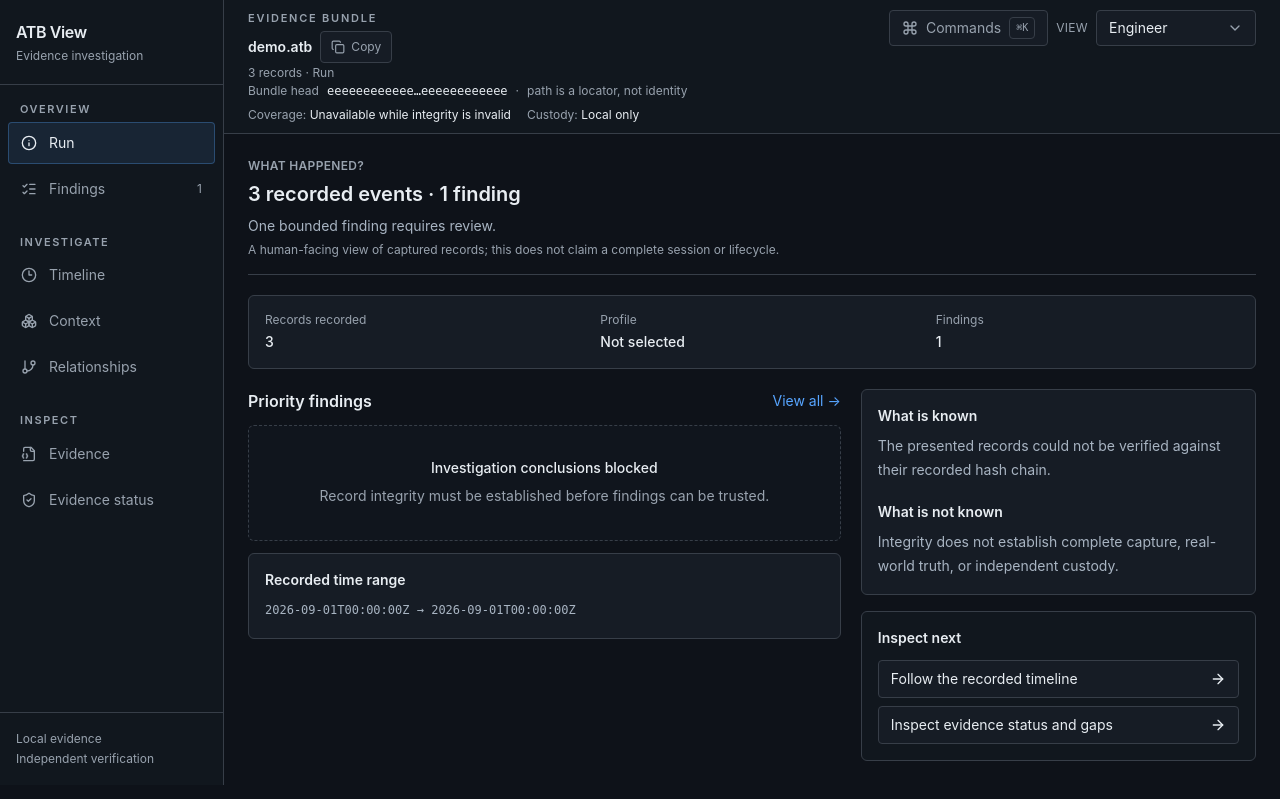
Test: ATB View investigation model › keeps integrity failure distinct from coverage and corroboration
The image size is (1280, 799).
Expected: the text "Unavailable while integrity is invalid" is shown, [310,106,511,122]
Click the button "Evidence status" at (112, 500), box [8,478,215,520]
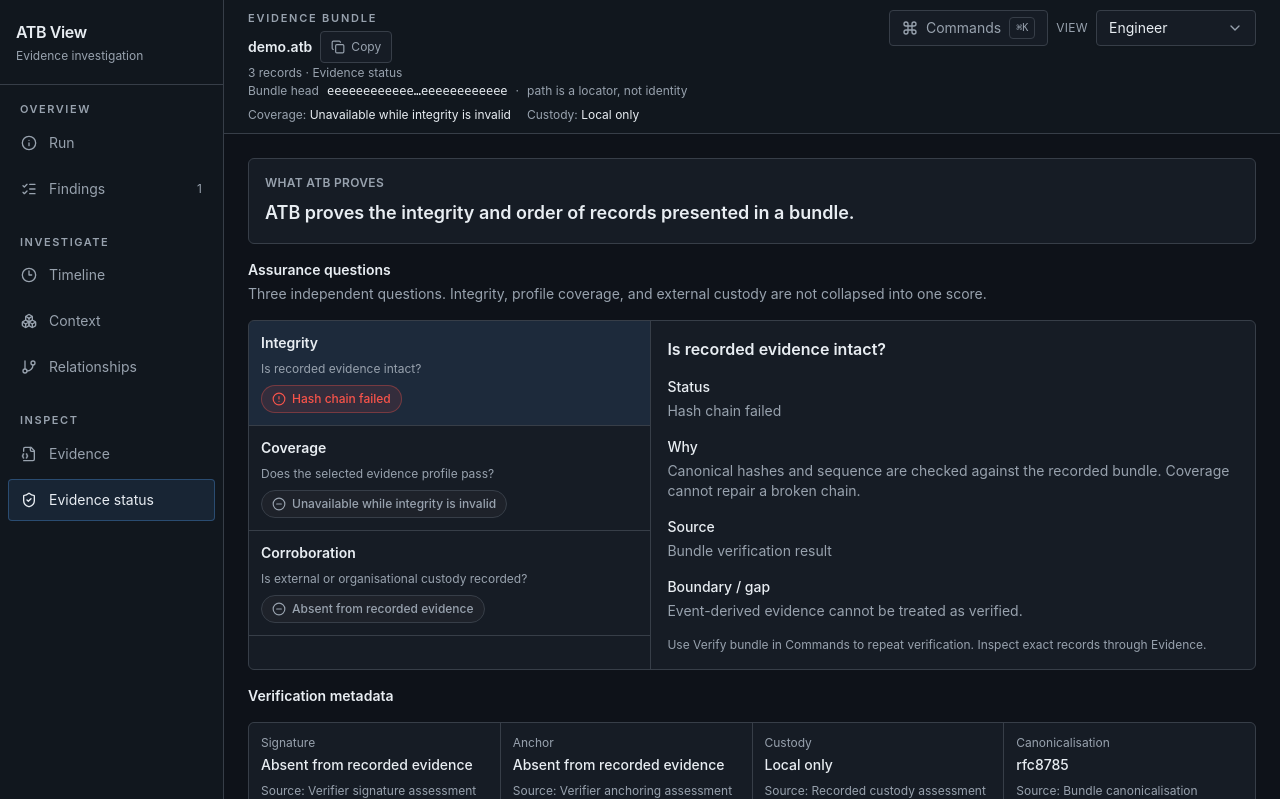
Expected: the text "Hash chain failed" is shown, [261,384,402,412]
